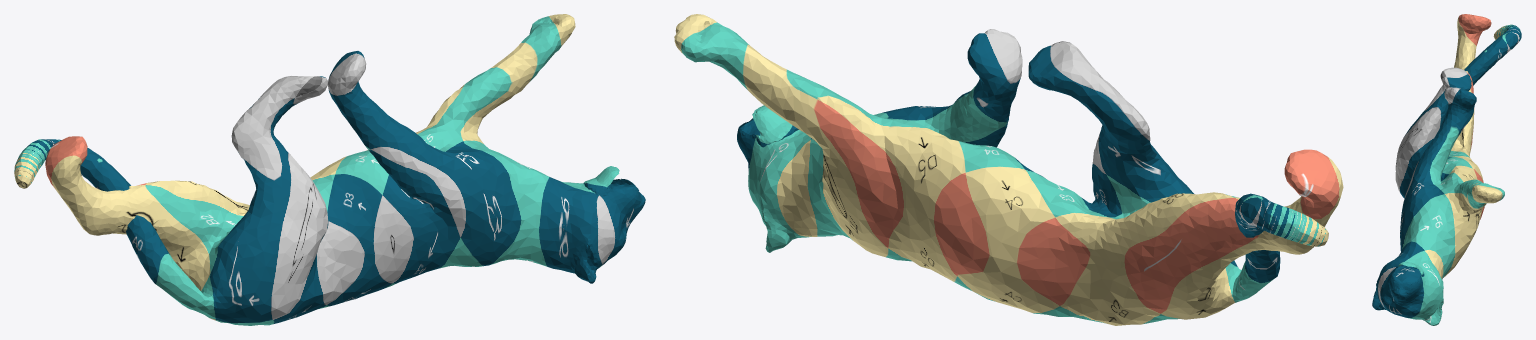
File: horse_10-cougar_03.obj
3 views of the same model, side by side, from view 1: azimuth 30°, elevation 25°; view 2: azimuth 150°, elevation 25°; view 3: azimuth 270°, elevation 25° (orthographic). The views are drawn at different scales.
Visible parts, largest first — view 1: horse_10-cougar_03_export; view 2: horse_10-cougar_03_export; view 3: horse_10-cougar_03_export.
Part boxes in pixels (bbox=[...]): horse_10-cougar_03_export: bbox=[14, 14, 645, 325]; horse_10-cougar_03_export: bbox=[674, 14, 1343, 325]; horse_10-cougar_03_export: bbox=[1372, 14, 1521, 325].
Bounding box in the file's own units: 1.19 × 0.4973 × 0.3967.
